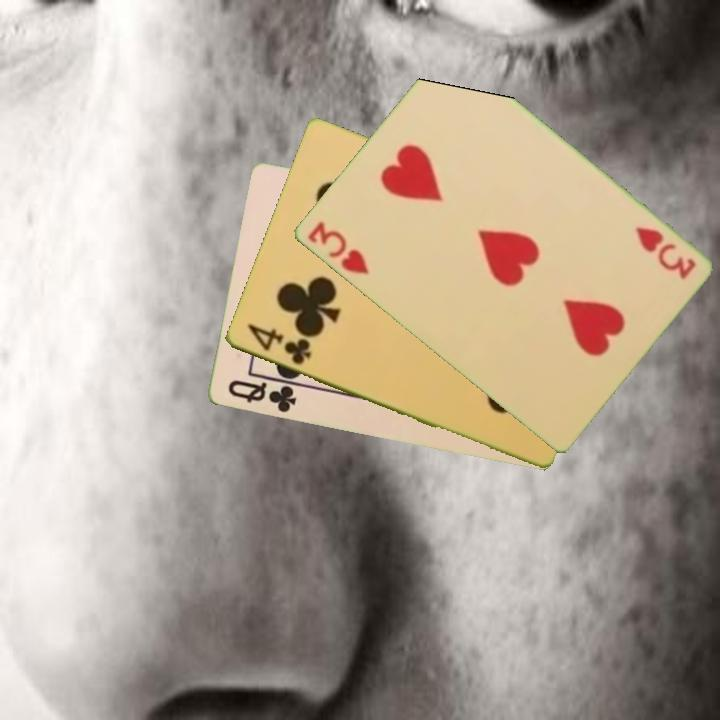3h: (303, 218, 372, 278), (631, 223, 698, 283)
4c: (243, 320, 314, 368)
Qc: (224, 376, 299, 416)
